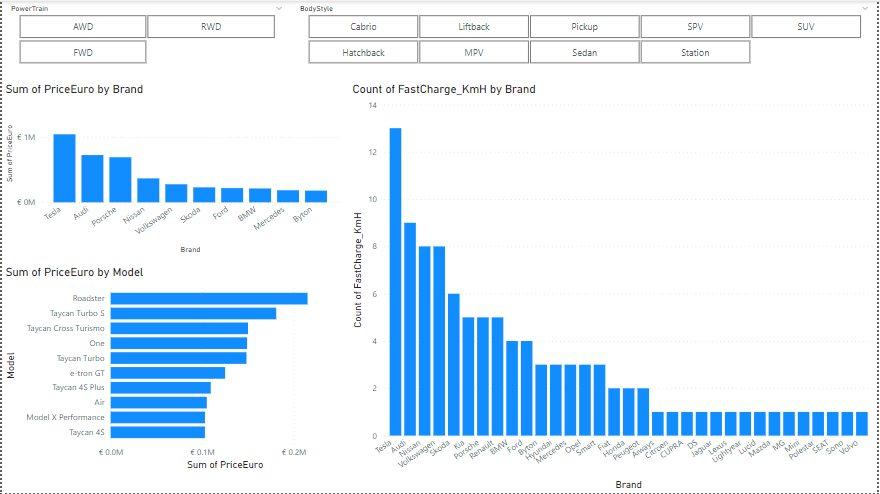

The page's visual inventory and layout, read from the dashboard file:
{"tool":"powerbi","page":{"name":"PowerTrain and Bodystyle","canvas":[1280,720],"ordinal":2},"visuals":[{"type":"slicer","fields":{"Values":["ElectricCarData_Clean.PowerTrain"]},"box":[0,0,422.9,98],"z":0},{"type":"clusteredColumnChart","fields":{"Category":["ElectricCarData_Clean.Brand"],"Y":["Sum(ElectricCarData_Clean.PriceEuro)"]},"box":[0,118.5,497.6,256.1],"z":1},{"type":"clusteredBarChart","fields":{"Category":["ElectricCarData_Clean.Model"],"Y":["Sum(ElectricCarData_Clean.PriceEuro)"]},"box":[0,386.3,518,304.4],"z":2},{"type":"clusteredColumnChart","fields":{"Category":["ElectricCarData_Clean.Brand"],"Y":["CountNonNull(ElectricCarData_Clean.FastCharge_KmH)"]},"box":[507.8,118.5,772.7,601.5],"z":3},{"type":"slicer","fields":{"Values":["ElectricCarData_Clean.BodyStyle"]},"box":[422.9,0,857.6,98],"z":4}]}

Visuals, with their boxes in screenshot pixels (x1, y1, x2, y2), scaled from the page's 1280x720 canvas onto the 880x494 screenshot:
slicer - ElectricCarData_Clean.PowerTrain: {"x1": 0, "y1": 0, "x2": 291, "y2": 67}
clusteredColumnChart - ElectricCarData_Clean.Brand x Sum(ElectricCarData_Clean.PriceEuro): {"x1": 0, "y1": 81, "x2": 342, "y2": 257}
clusteredBarChart - ElectricCarData_Clean.Model x Sum(ElectricCarData_Clean.PriceEuro): {"x1": 0, "y1": 265, "x2": 356, "y2": 474}
clusteredColumnChart - ElectricCarData_Clean.Brand x CountNonNull(ElectricCarData_Clean.FastCharge_KmH): {"x1": 349, "y1": 81, "x2": 879, "y2": 493}
slicer - ElectricCarData_Clean.BodyStyle: {"x1": 291, "y1": 0, "x2": 879, "y2": 67}
